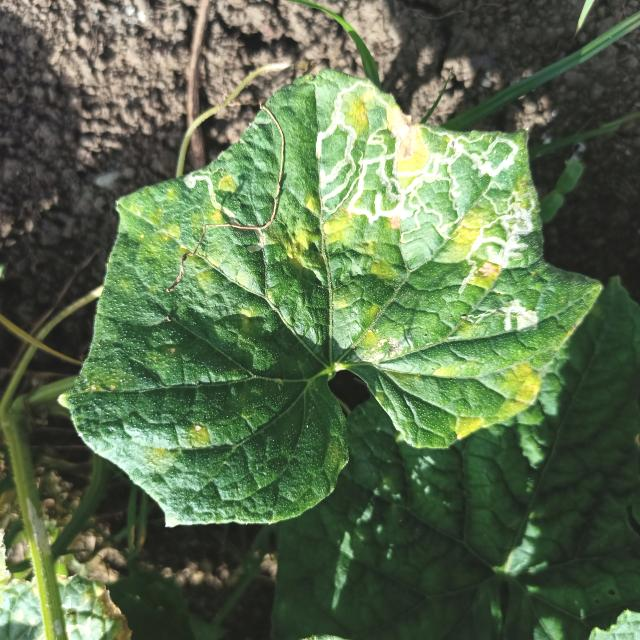disease_cucumber: (283, 100, 555, 357), (155, 171, 284, 318), (433, 356, 545, 446), (142, 420, 213, 470)
